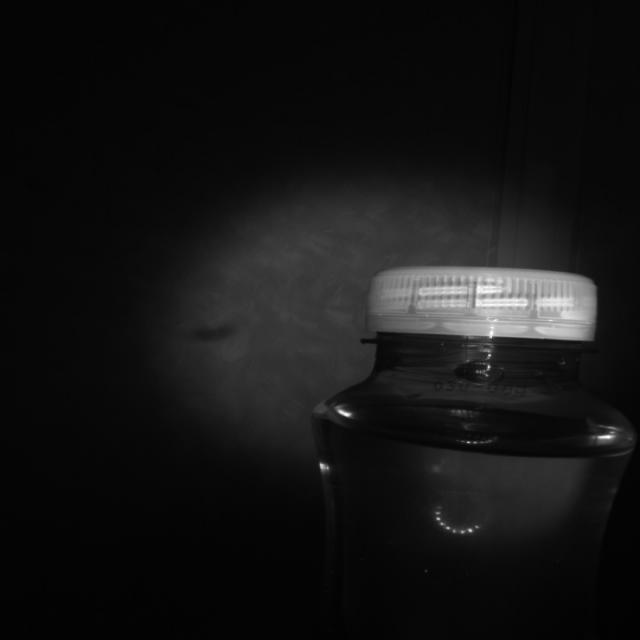Good: (371, 263, 601, 345)
